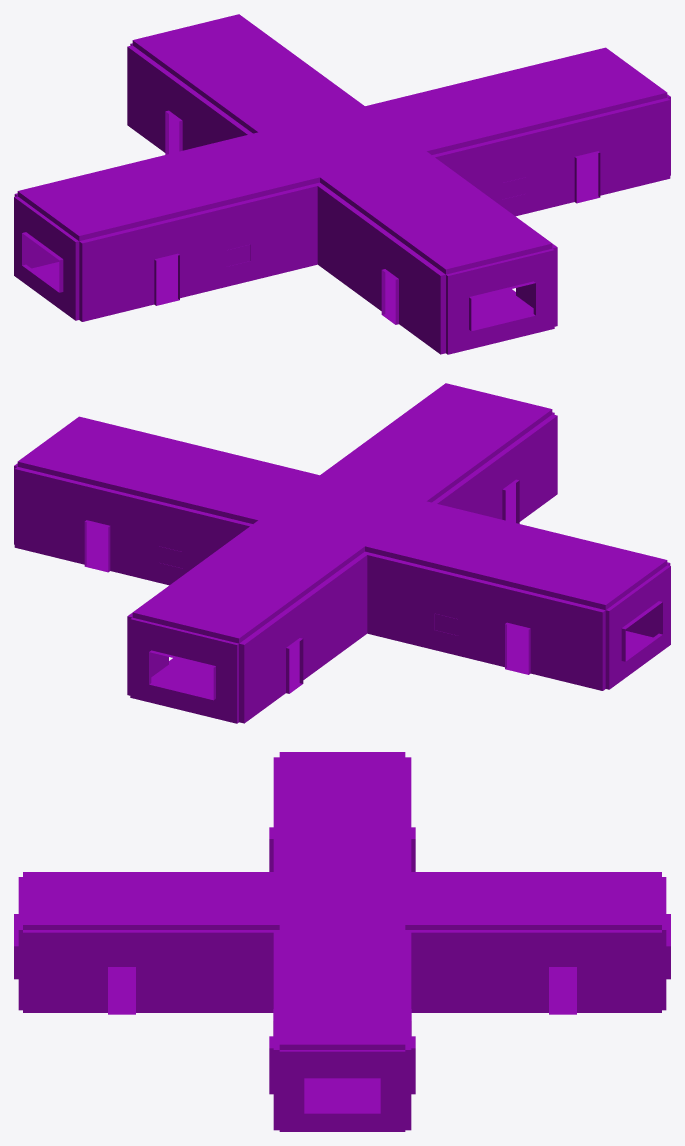
File: Hall.fbx
The picture shows the model from 3 angles, top to bottom: view 1: azimuth 30°, elevation 25°; view 2: azimuth 150°, elevation 25°; view 3: azimuth 270°, elevation 25°; orthographic projection.
Parts seen in each view (by area): view 1: Hall; view 2: Hall; view 3: Hall.
Part boxes in pixels (bbox=[...]): Hall: bbox=[14, 14, 670, 354]; Hall: bbox=[14, 383, 670, 723]; Hall: bbox=[14, 752, 670, 1131].
Size of the model in its own units: 24.16 by 3.21 by 22.34.
